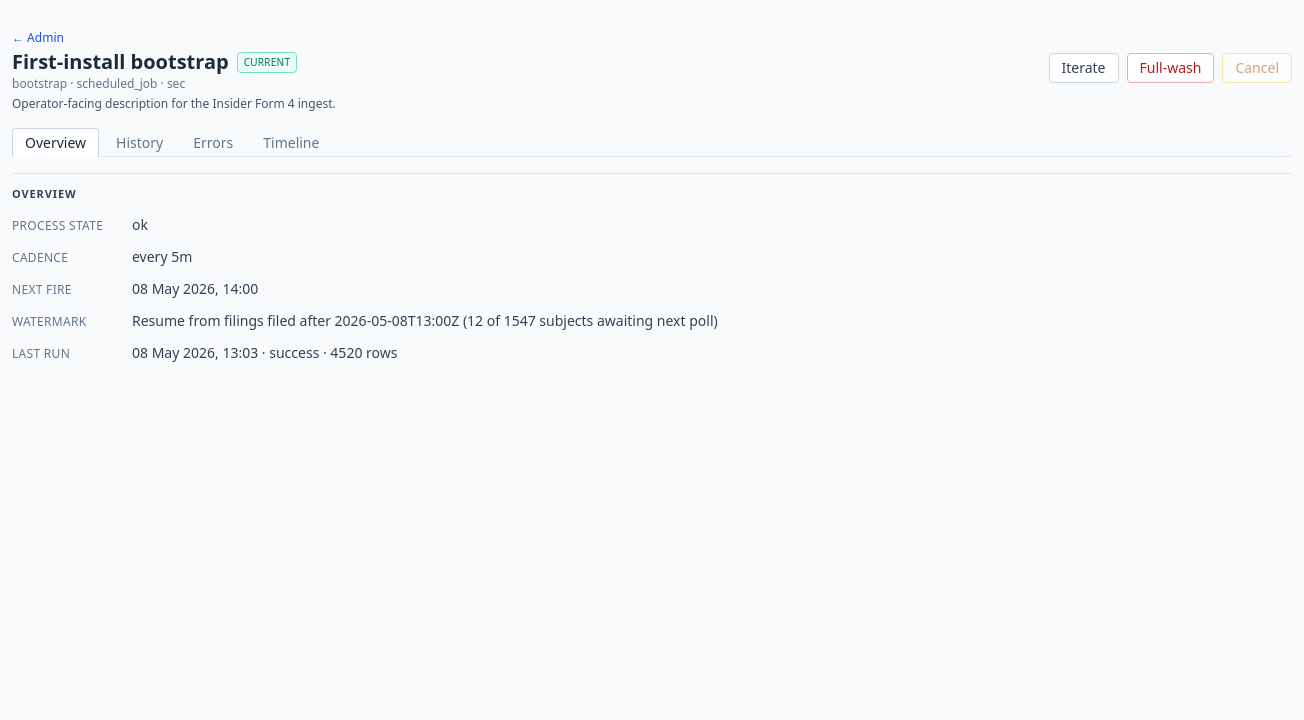
Test: ProcessDetailPage — Timeline tab (bootstrap) › tones the detail line neutral for a skipped stage and red for an error stage
Click the tab "Timeline": (291, 142) 250,128 -> 332,157
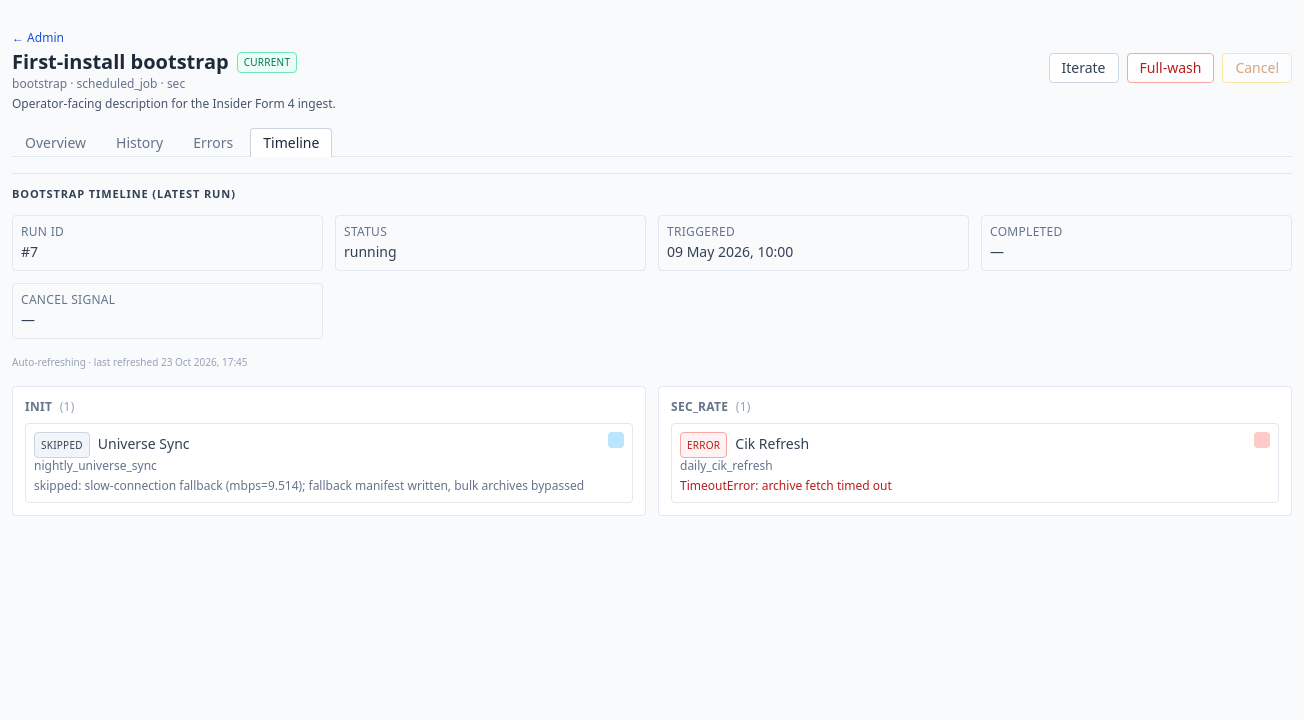
Check: the number of elements with test id "stage-detail-text" is 2, box 34,478 -> 600,494; 680,476 -> 892,494
